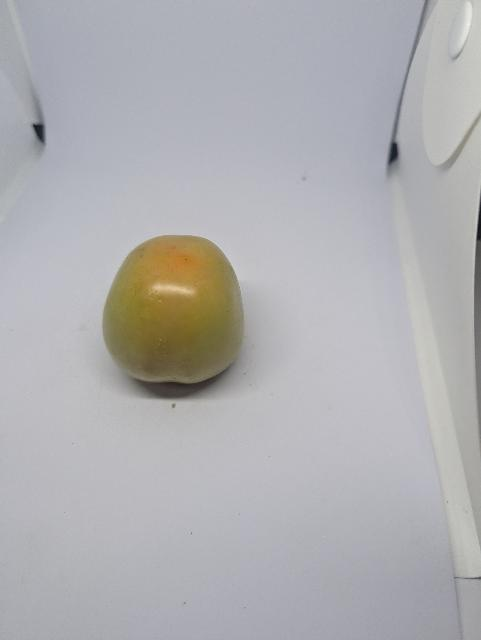breaker: (102, 226, 257, 389)
